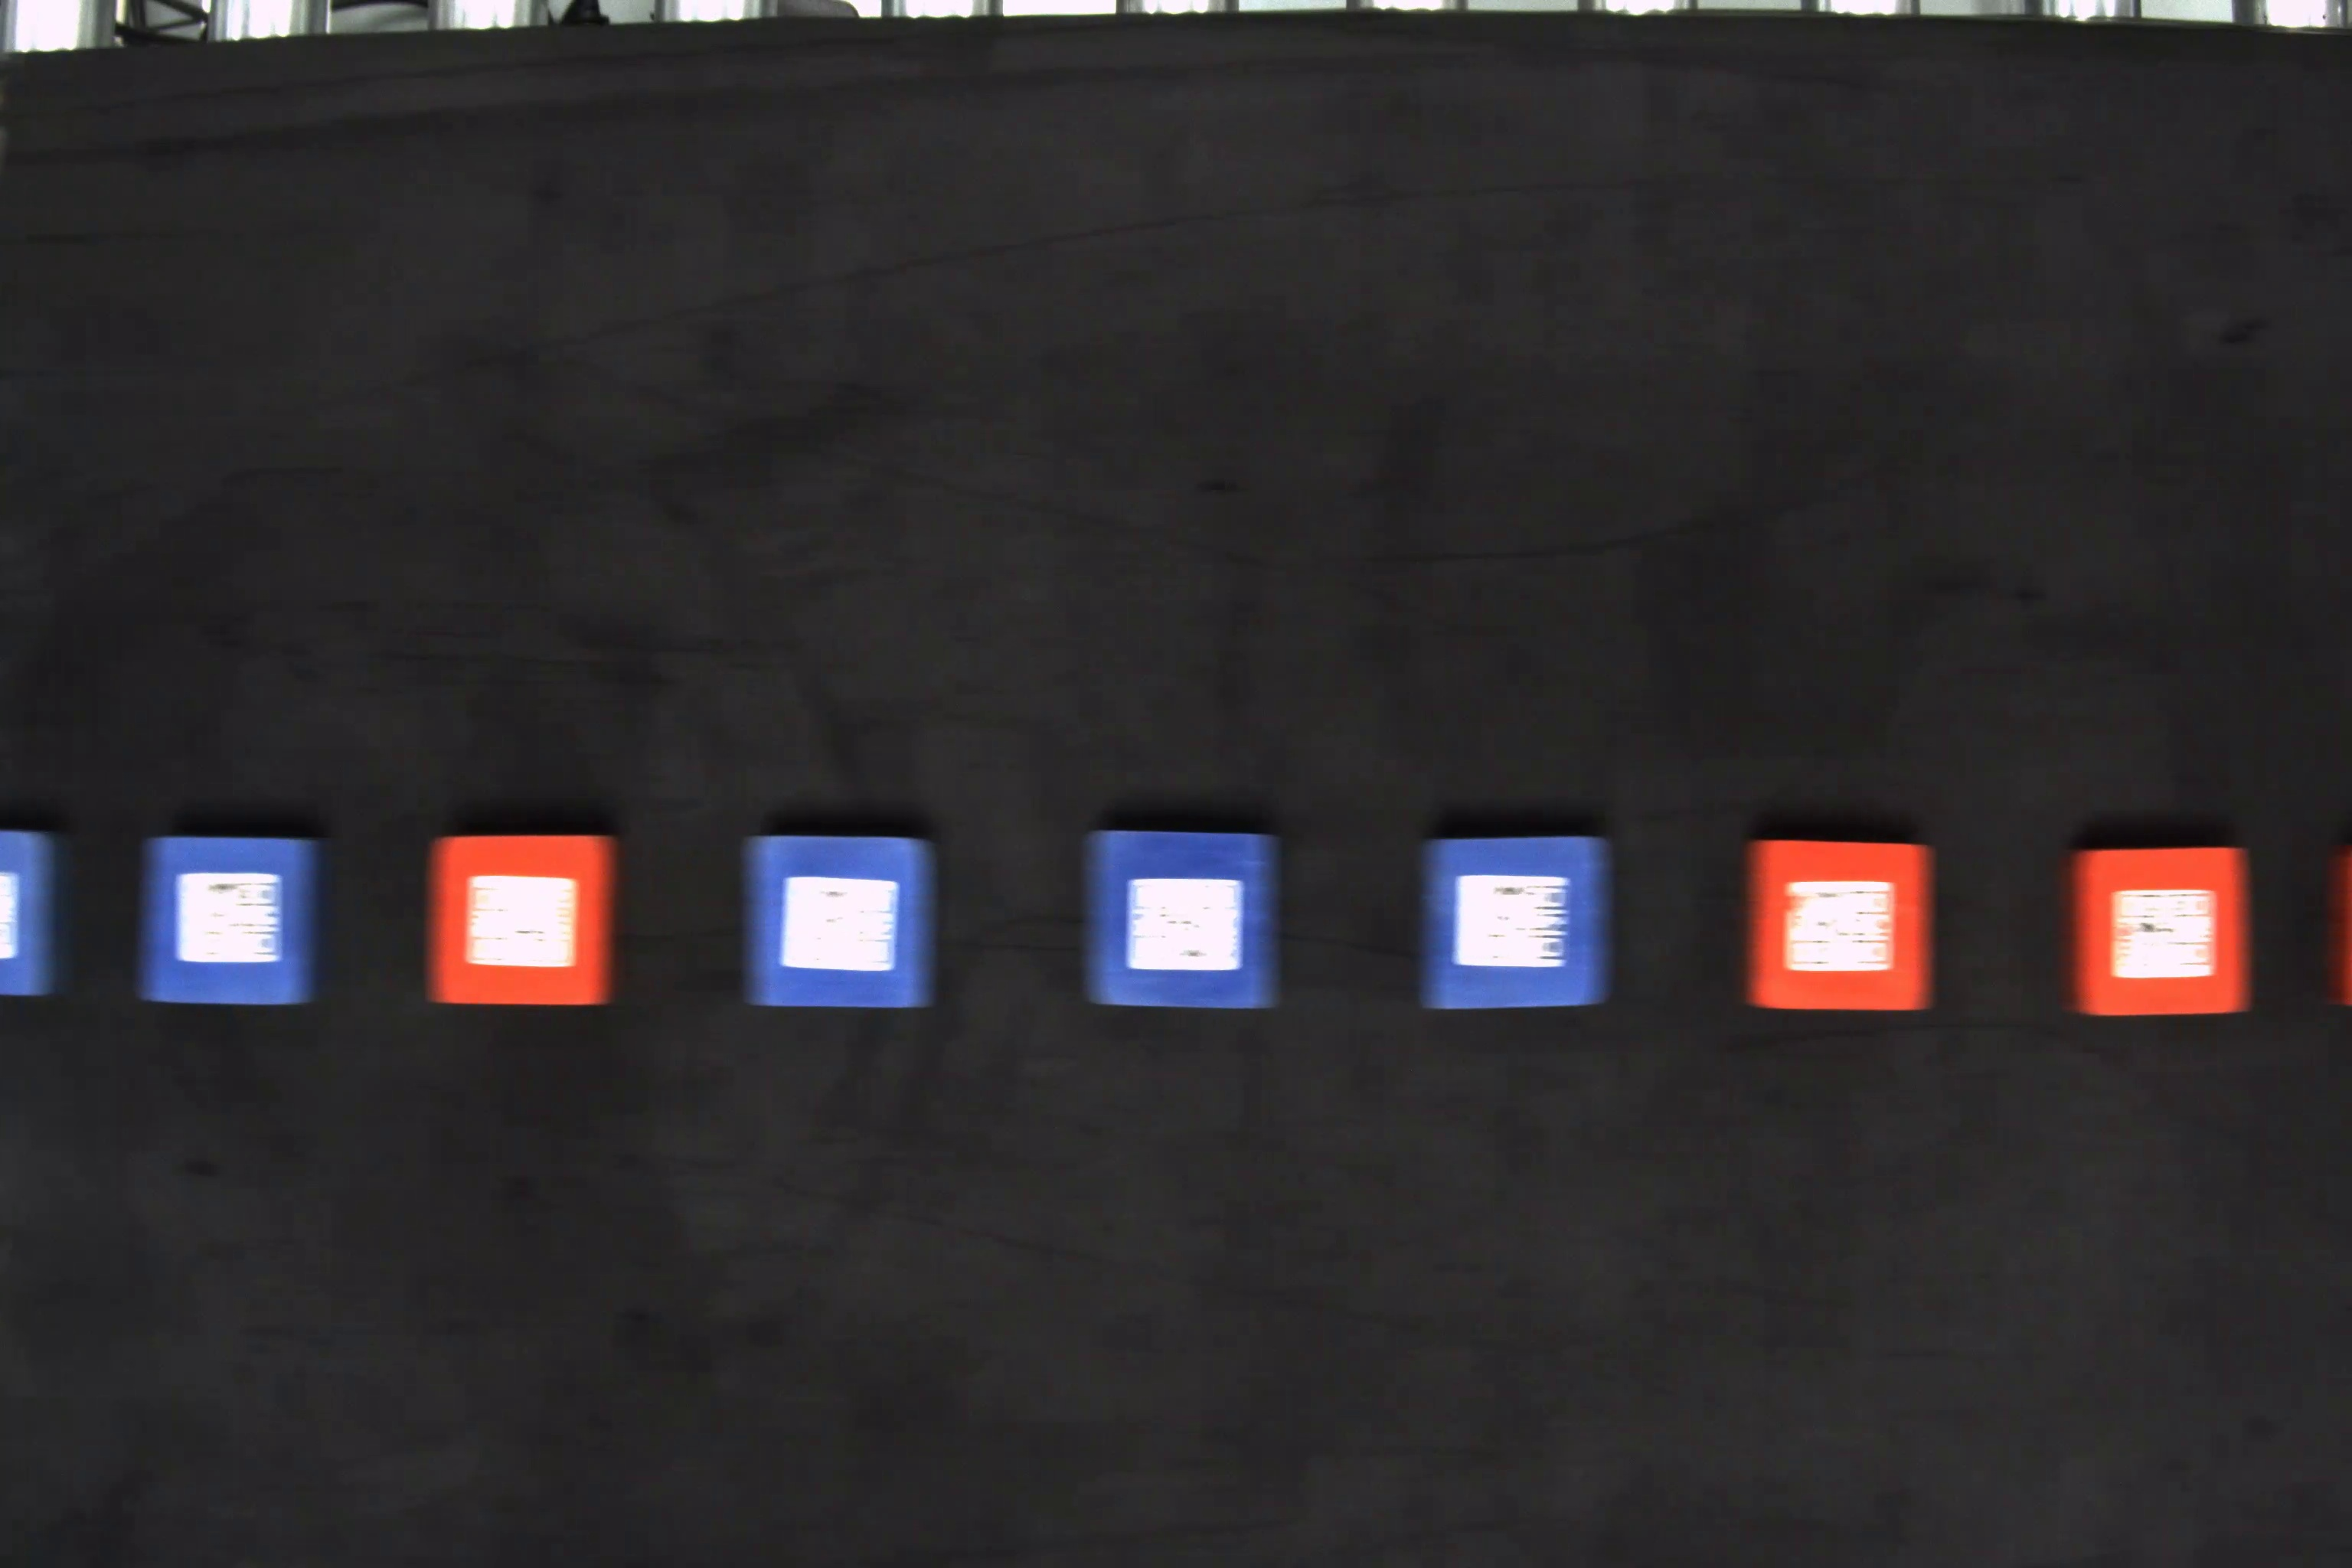wood: (1078, 828, 1284, 1017), (1741, 831, 1941, 1015), (135, 831, 331, 1011), (1421, 836, 1617, 1017), (742, 828, 933, 1006), (425, 831, 614, 1008), (2070, 845, 2254, 1022), (2, 828, 72, 1004)
